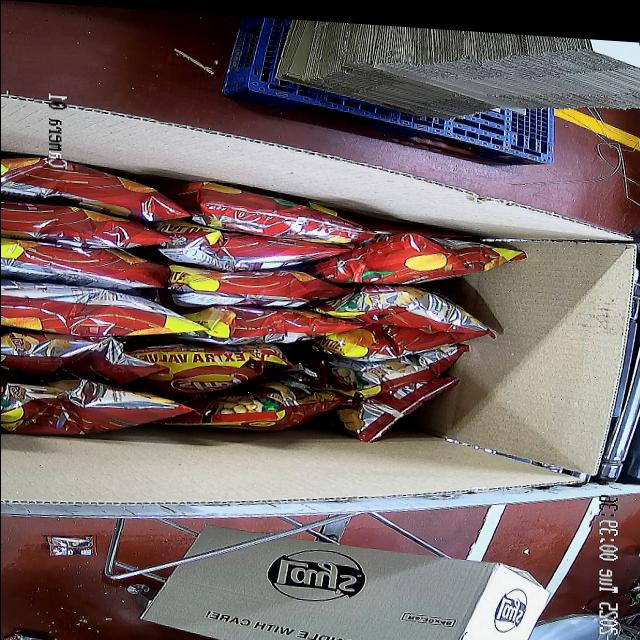MASALA: (0, 154, 525, 468)
